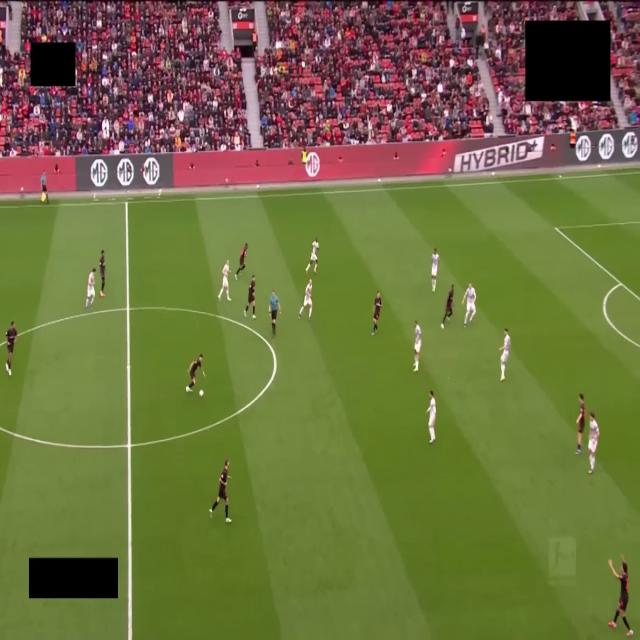ball: (199, 390, 203, 397)
player: (609, 556, 633, 637), (210, 459, 231, 523), (186, 354, 205, 392), (588, 412, 599, 473), (462, 283, 476, 327), (6, 321, 17, 375), (441, 285, 454, 328), (576, 393, 585, 455), (500, 328, 510, 382), (299, 280, 312, 319), (218, 260, 230, 301), (244, 275, 255, 319), (427, 391, 436, 444), (372, 291, 382, 335), (235, 243, 247, 279), (306, 238, 318, 273), (86, 268, 95, 311), (414, 320, 421, 372), (431, 248, 439, 292), (99, 250, 105, 297)
referee: (269, 290, 281, 336)
